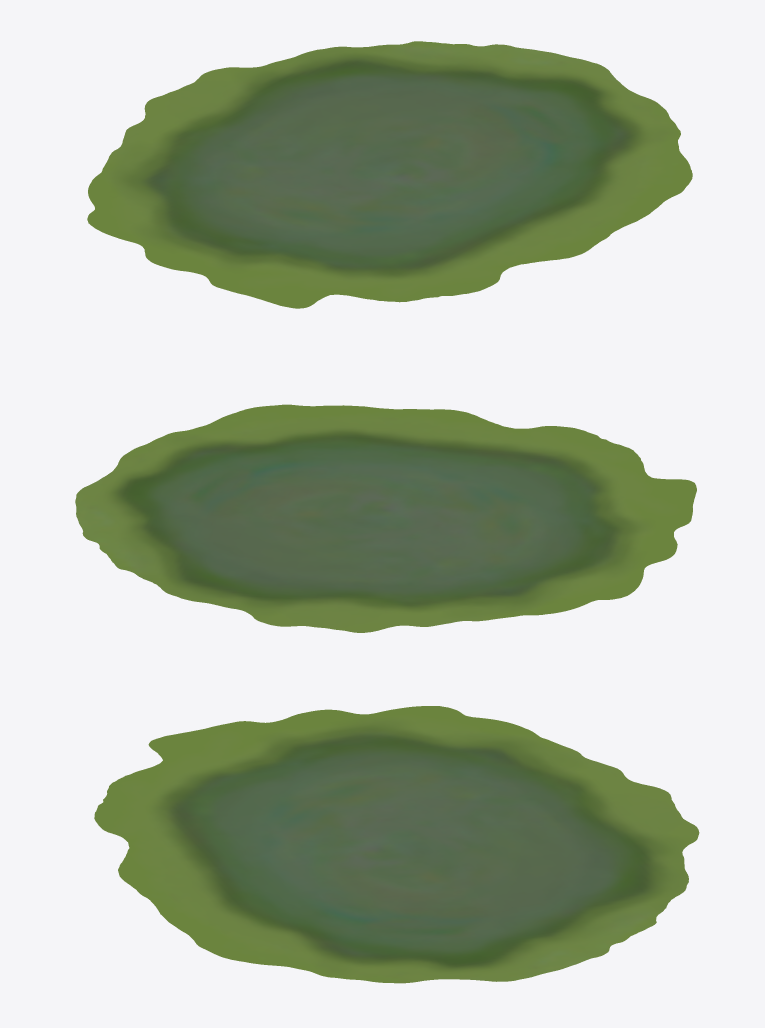
Rendered from worldplane5.FBX.
3 views of the same model, one above another, from view 1: azimuth 30°, elevation 25°; view 2: azimuth 150°, elevation 25°; view 3: azimuth 270°, elevation 25° (orthographic). The views are drawn at different scales.
Visible parts, largest first — view 1: worldplane5; view 2: worldplane5; view 3: worldplane5.
Boxes of the visible parts, x1,y1,x2,y2 form: worldplane5: (87,41,692,308); worldplane5: (75,404,696,632); worldplane5: (94,706,699,983).
Bounding box in the file's own units: 1.26 × 7.19e-17 × 1.17.
Materials: 1 (1 with a texture image).
